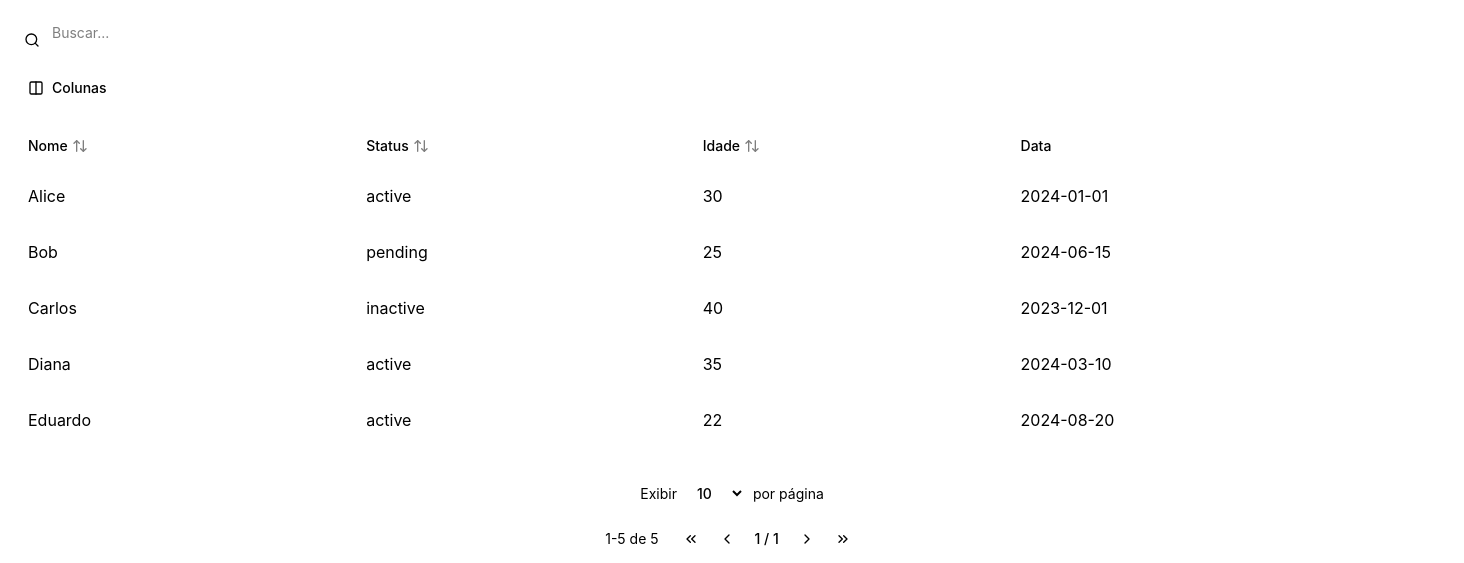
Test: DataTable › search › filters rows by search input
Type "Alice" into the field with placeholder "Buscar..." at (732, 32), box [12, 12, 1452, 52]
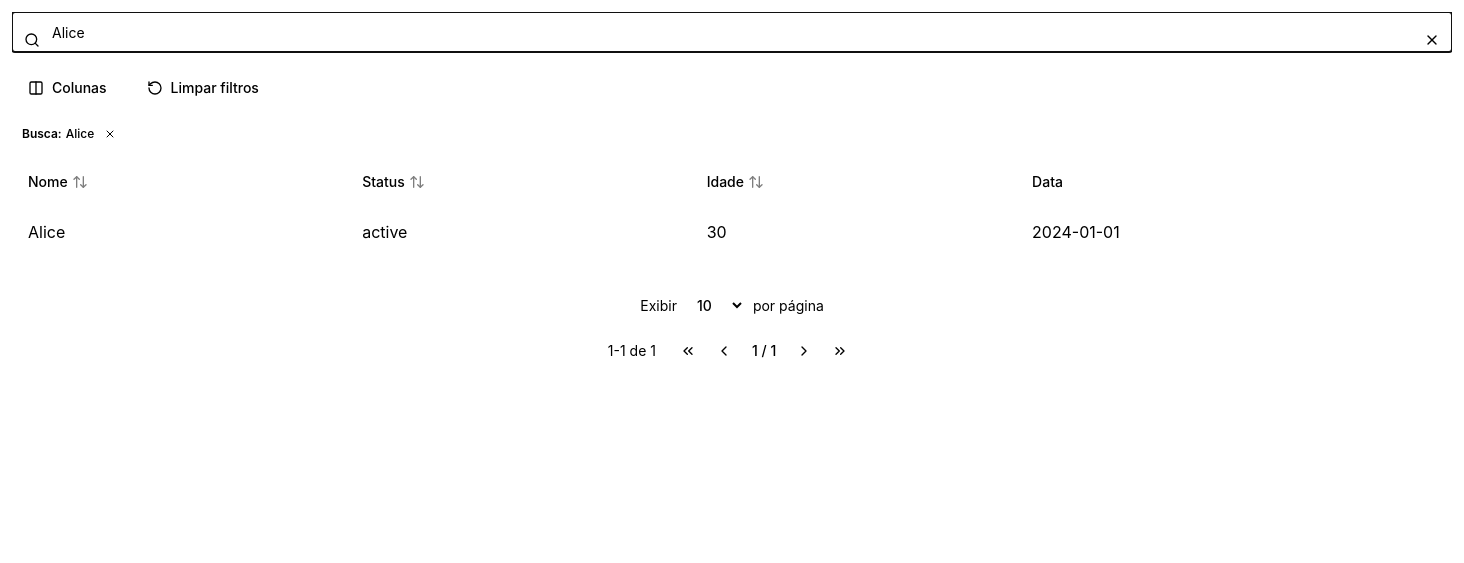
Expected: the text "Alice" is shown, [12, 204, 346, 260]
Now the text "Bob" is gone
